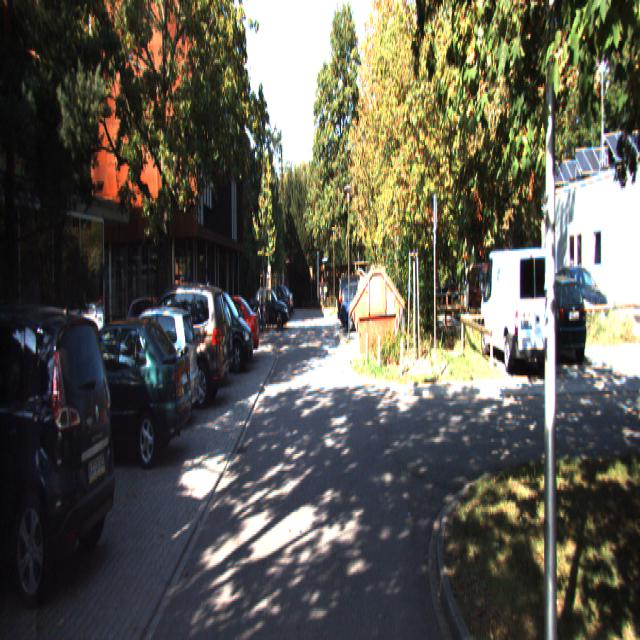Car: (0, 292, 124, 604), (48, 311, 194, 472), (119, 279, 230, 412), (99, 302, 201, 434), (477, 243, 556, 378), (186, 284, 256, 378), (520, 272, 589, 366), (194, 300, 260, 371), (340, 278, 382, 329)
